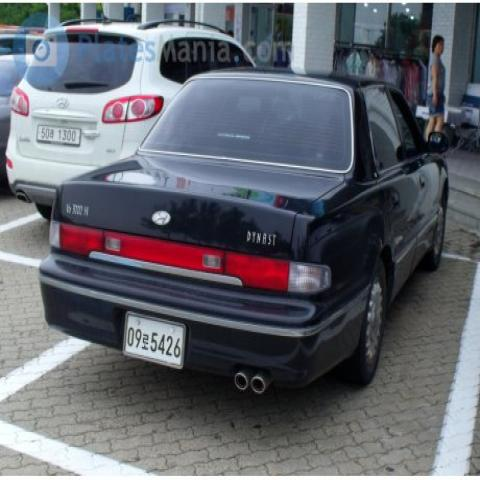LP: (113, 308, 194, 370), (33, 116, 86, 150)
